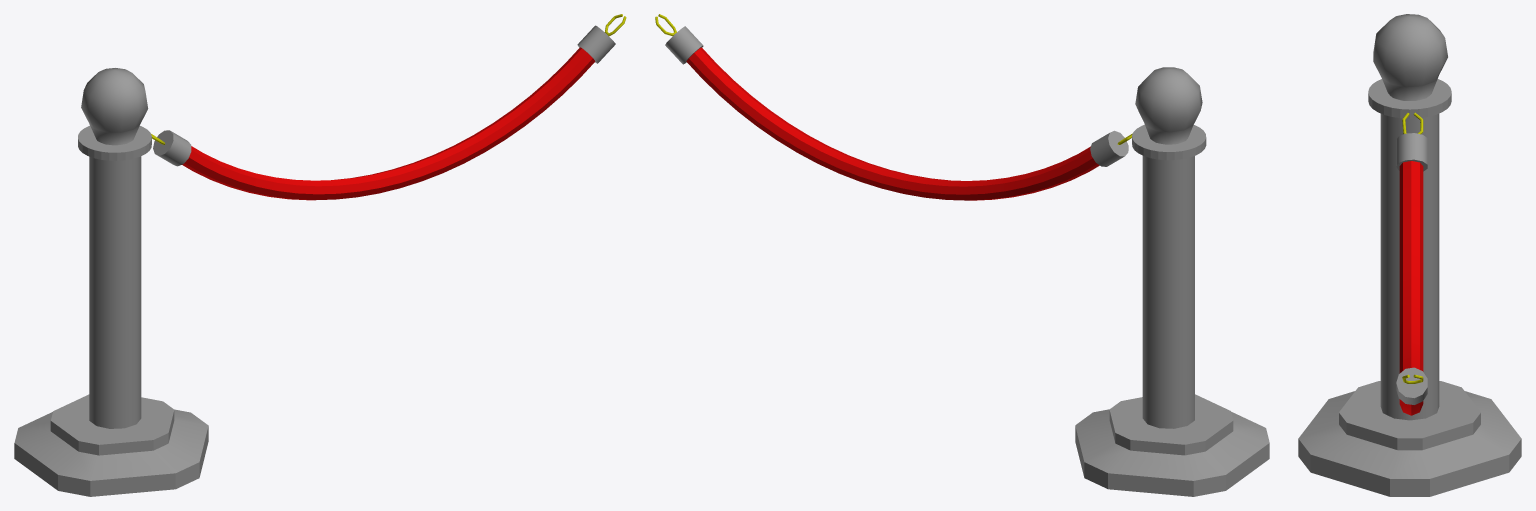
The model's file is Cordon_wMats.FBX.
3 renders of one model, left to right at view 1: azimuth 30°, elevation 25°; view 2: azimuth 150°, elevation 25°; view 3: azimuth 270°, elevation 25°, orthographic. The views are drawn at different scales.
Parts seen in each view (by area): view 1: Stick_Cordon, Cordon; view 2: Stick_Cordon, Cordon; view 3: Stick_Cordon, Cordon.
Part boxes in pixels (x1,y1,x2,y2): Stick_Cordon: [14, 68, 208, 496]; Cordon: [151, 14, 626, 200]; Stick_Cordon: [1075, 67, 1269, 496]; Cordon: [655, 14, 1132, 200]; Stick_Cordon: [1298, 14, 1521, 496]; Cordon: [1396, 112, 1427, 415].
Bounding box in the file's own units: 70.94 × 44.3 × 20.7.
